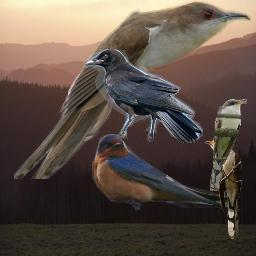Crow: (84, 49, 203, 143)
Cuckoo: (14, 1, 251, 179), (205, 139, 242, 240), (210, 99, 247, 191)
Swallow: (92, 134, 244, 212)
